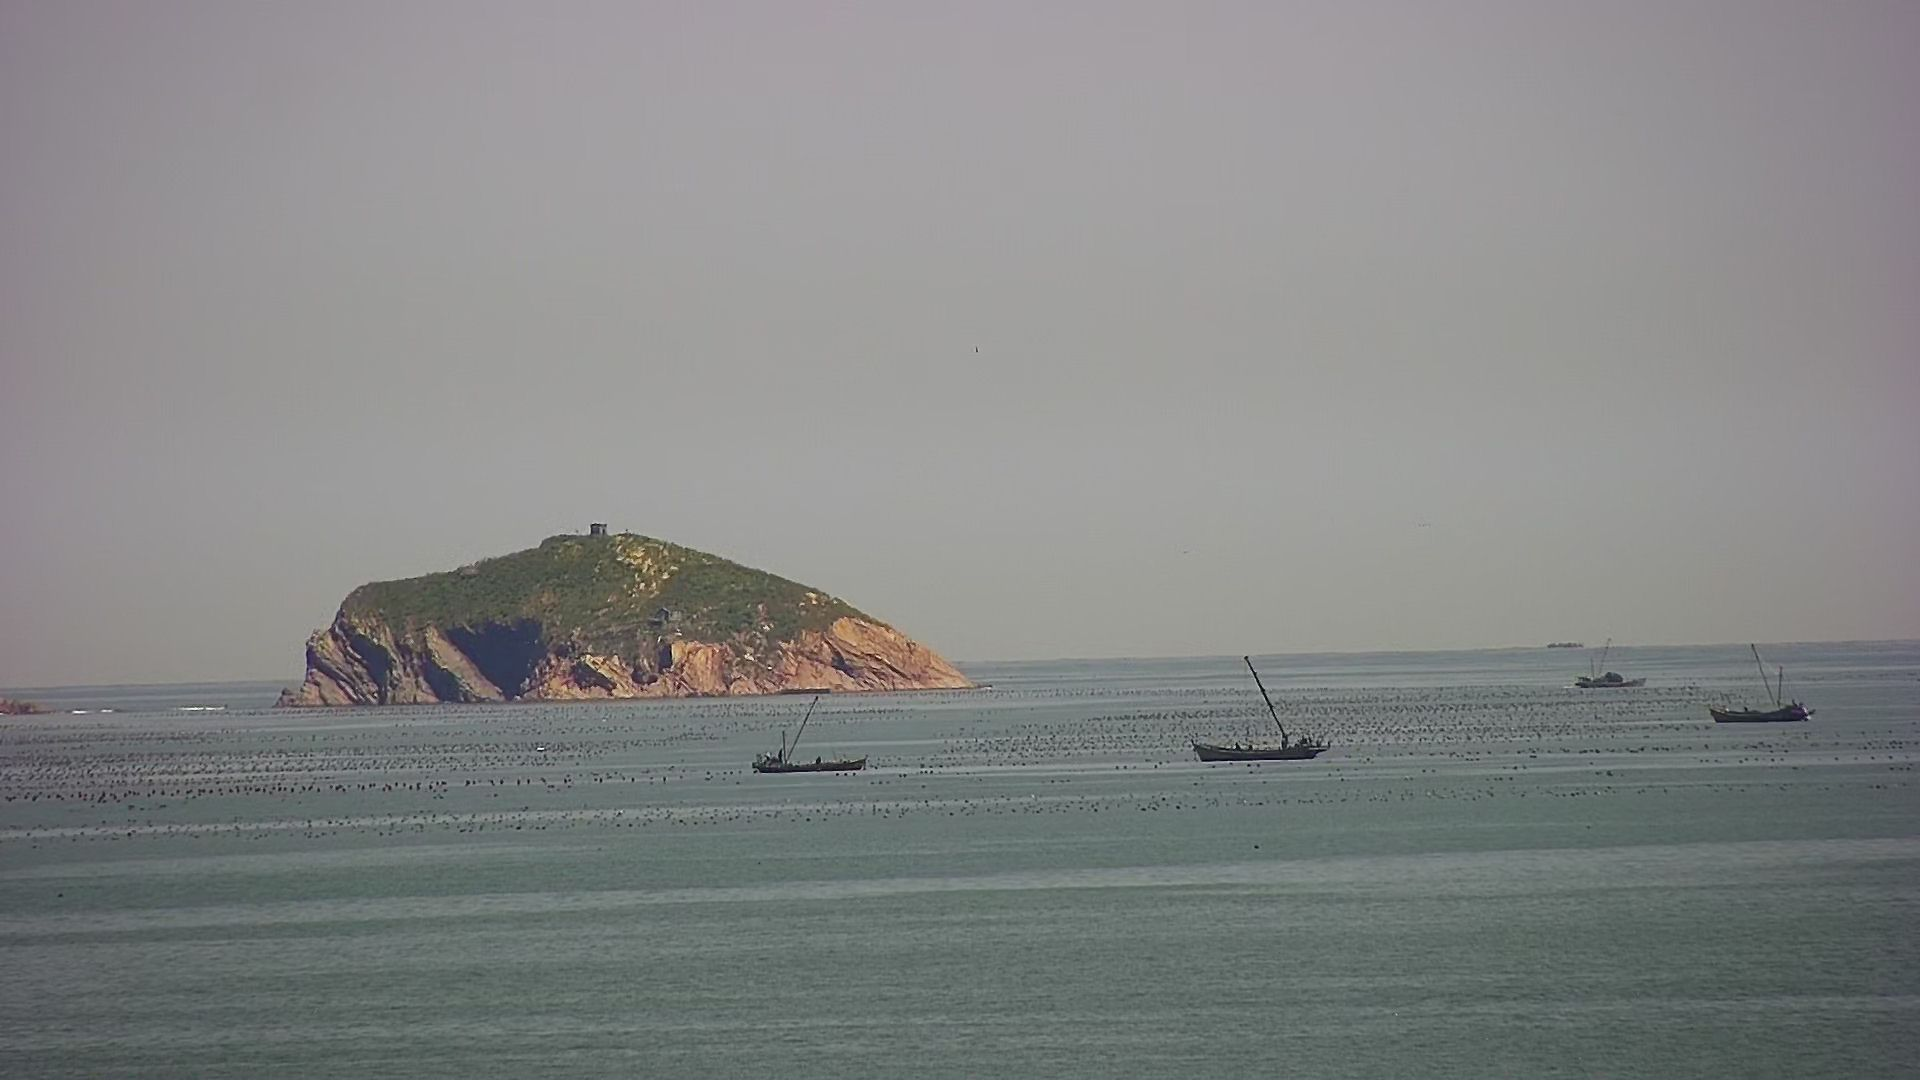boat: (1191, 653, 1337, 765), (752, 691, 870, 775), (1706, 642, 1818, 731), (1575, 630, 1647, 695)
rock: (270, 524, 992, 711)
